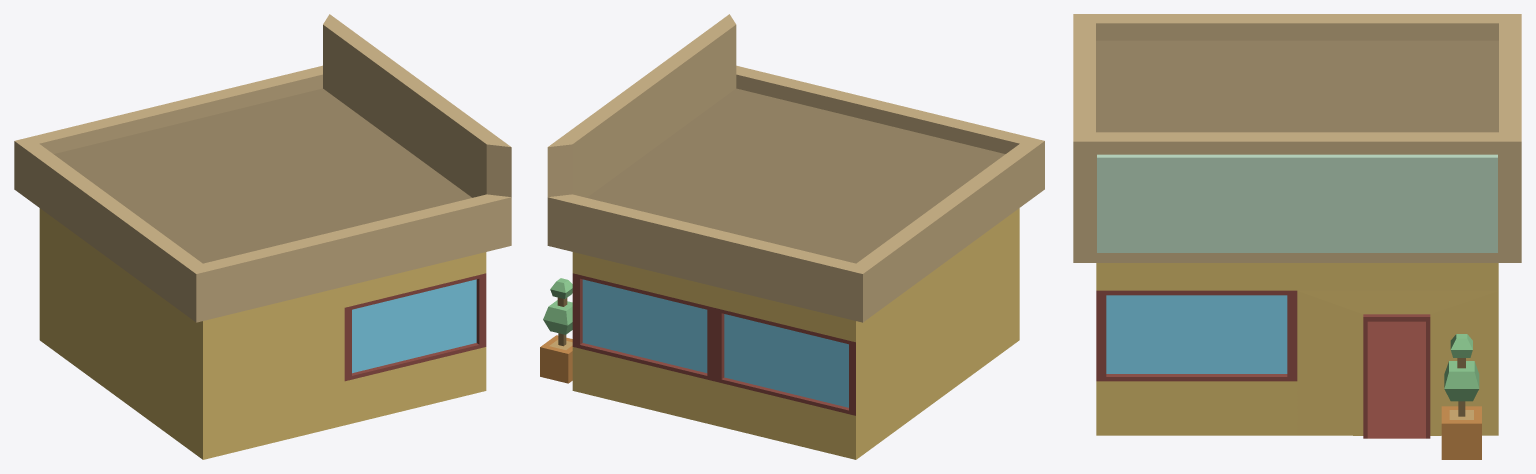
The model's file is StoreBuilding01.fbx.
3 views of the same model, side by side, from view 1: azimuth 30°, elevation 25°; view 2: azimuth 150°, elevation 25°; view 3: azimuth 270°, elevation 25° (orthographic). The views are drawn at different scales.
Parts seen in each view (by area): view 1: Cube; view 2: Cube; view 3: Cube.
Part boxes in pixels (x1,y1,x2,y2): Cube: (14,14,511,459); Cube: (540,14,1044,459); Cube: (1073,14,1521,459).
Size of the model in its own units: 718 by 500 by 668.
